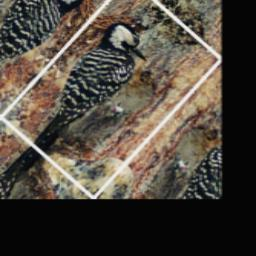Woodpecker: (11, 9, 180, 180)
